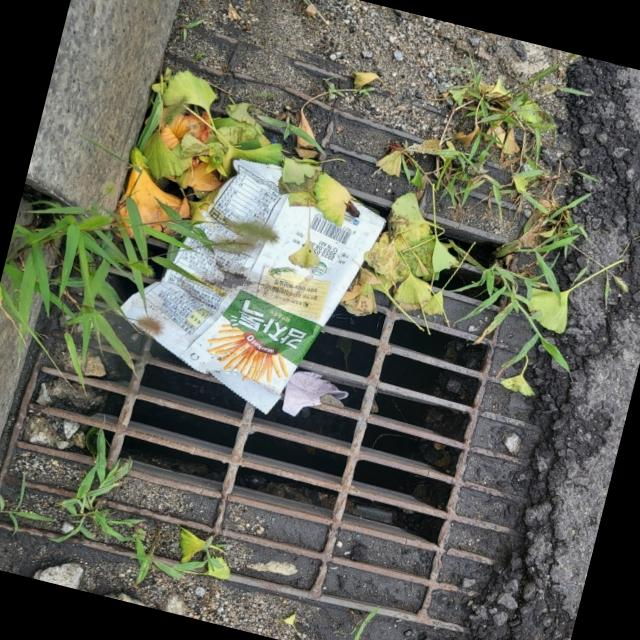drain_area: (105, 292, 490, 549)
drain_full: (0, 3, 619, 636)
